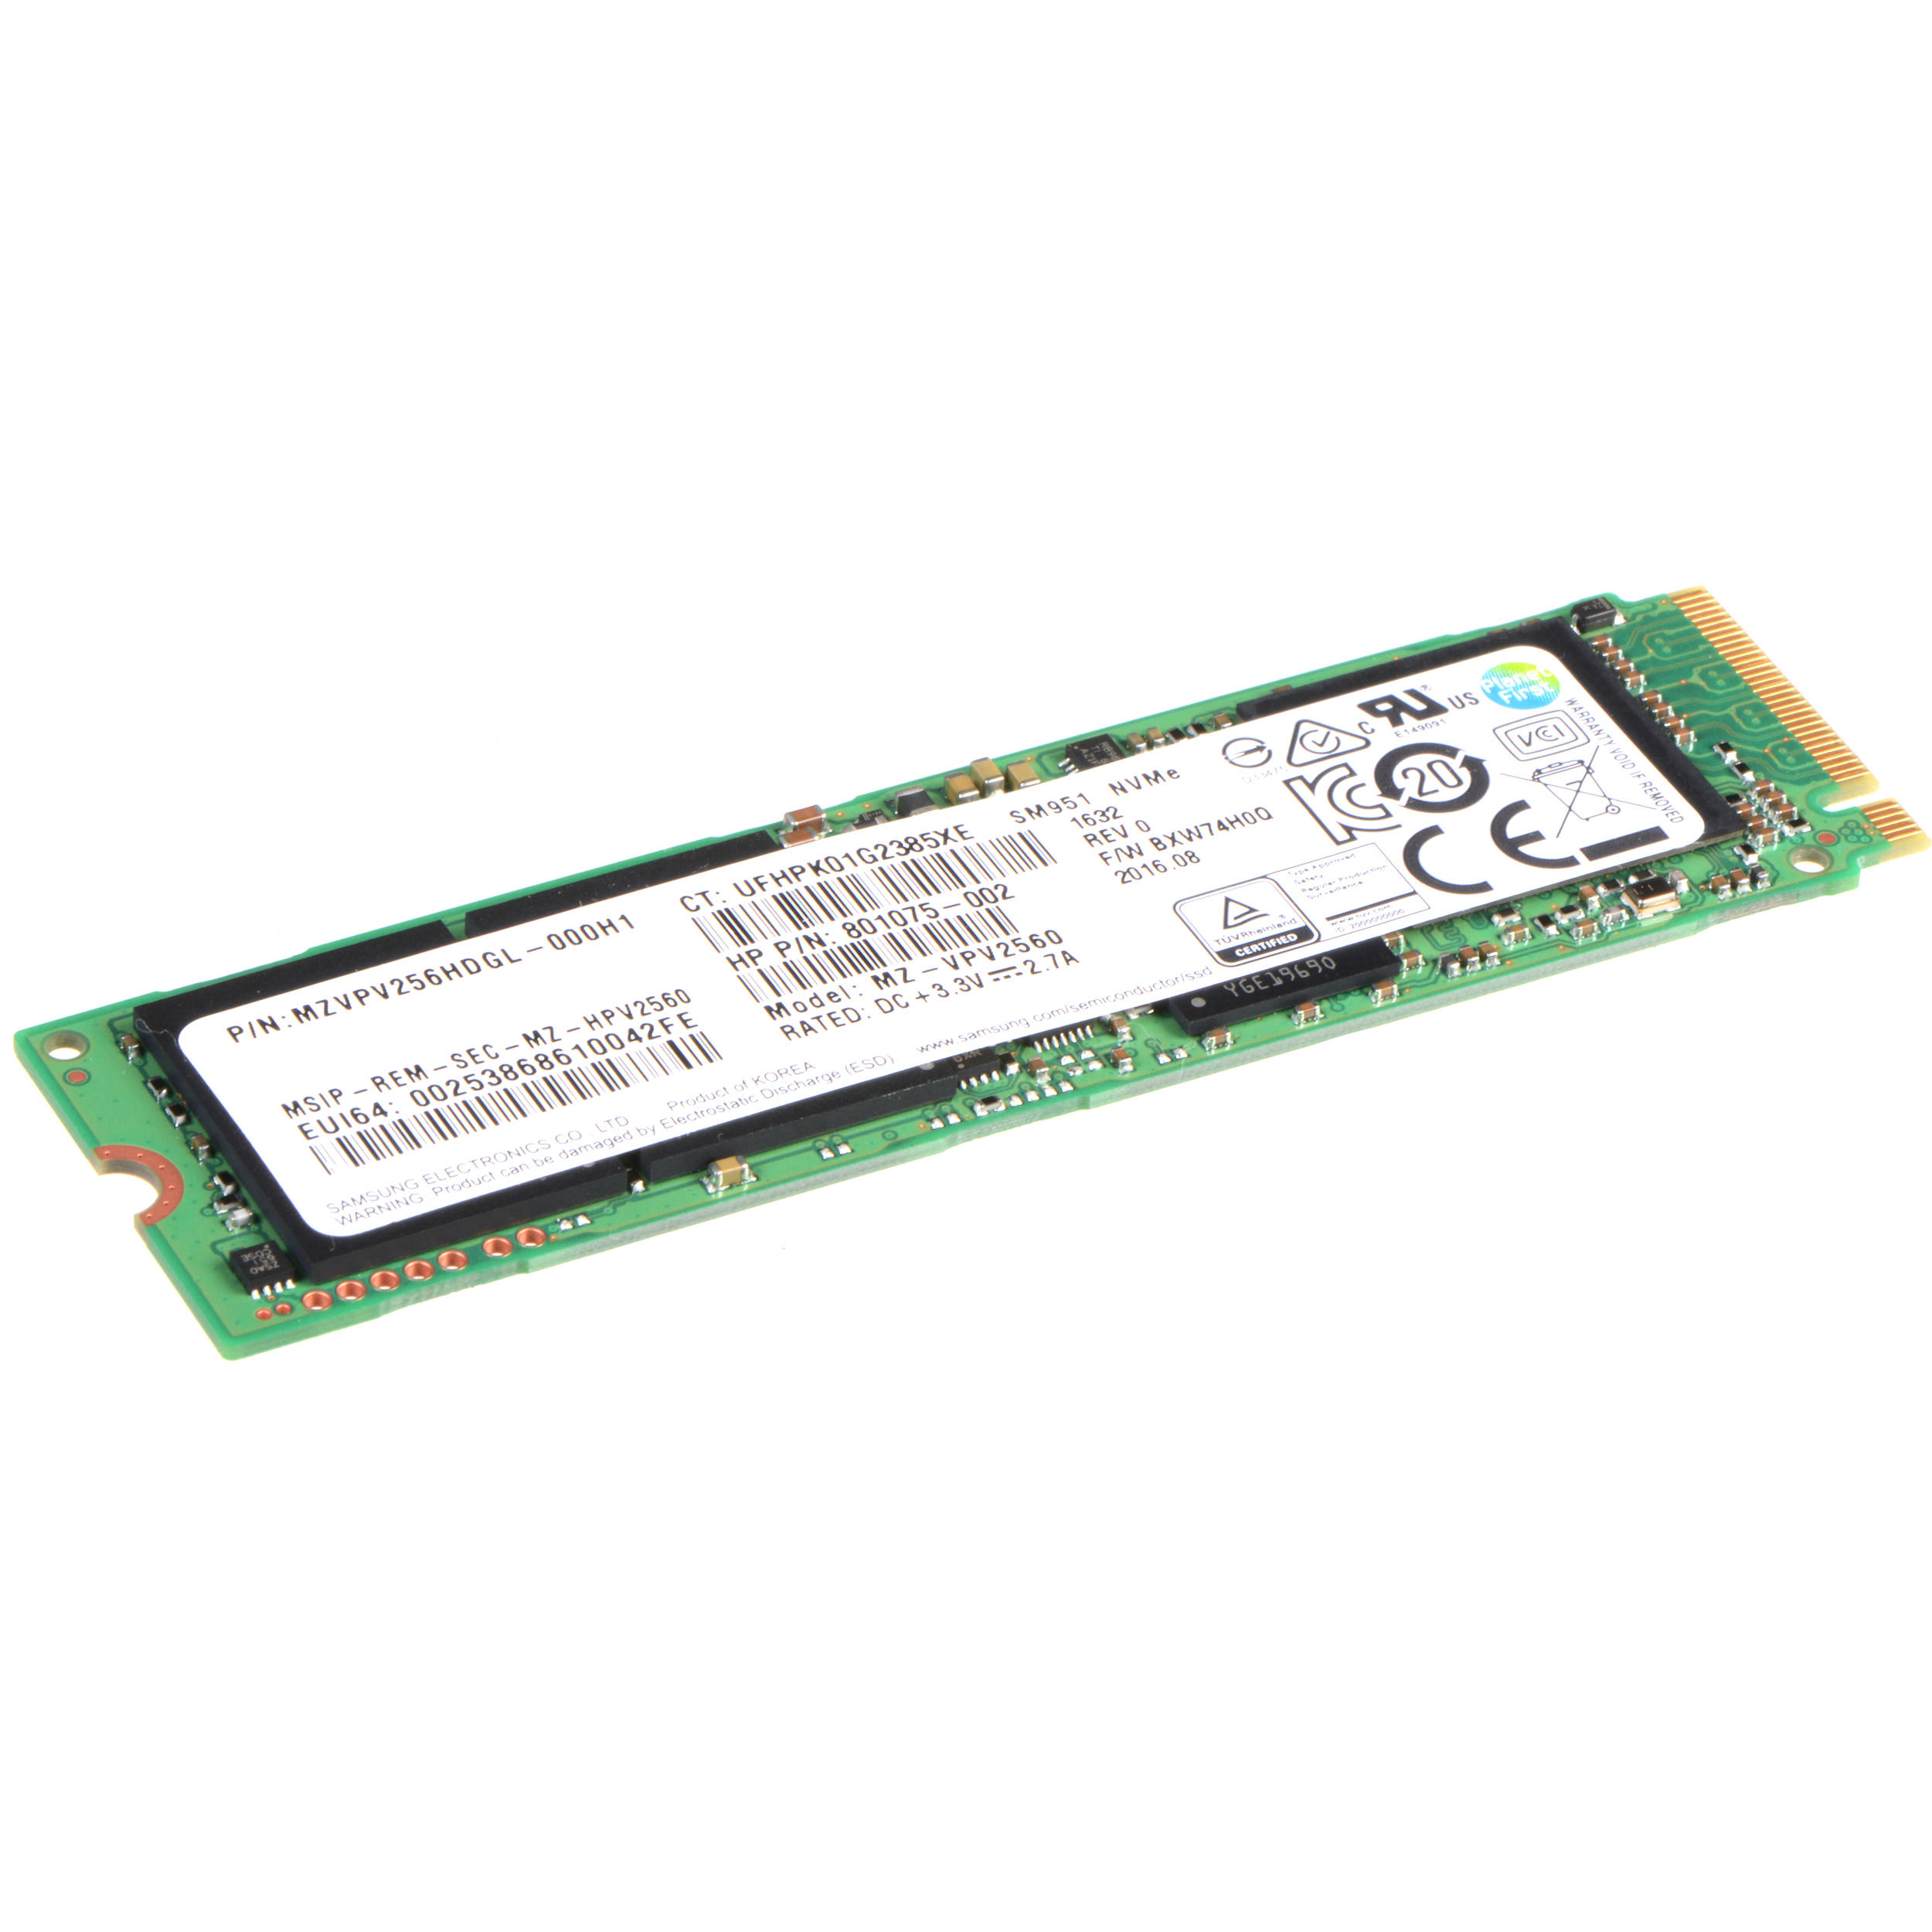M2 SSD: (0, 564, 1932, 1391)
